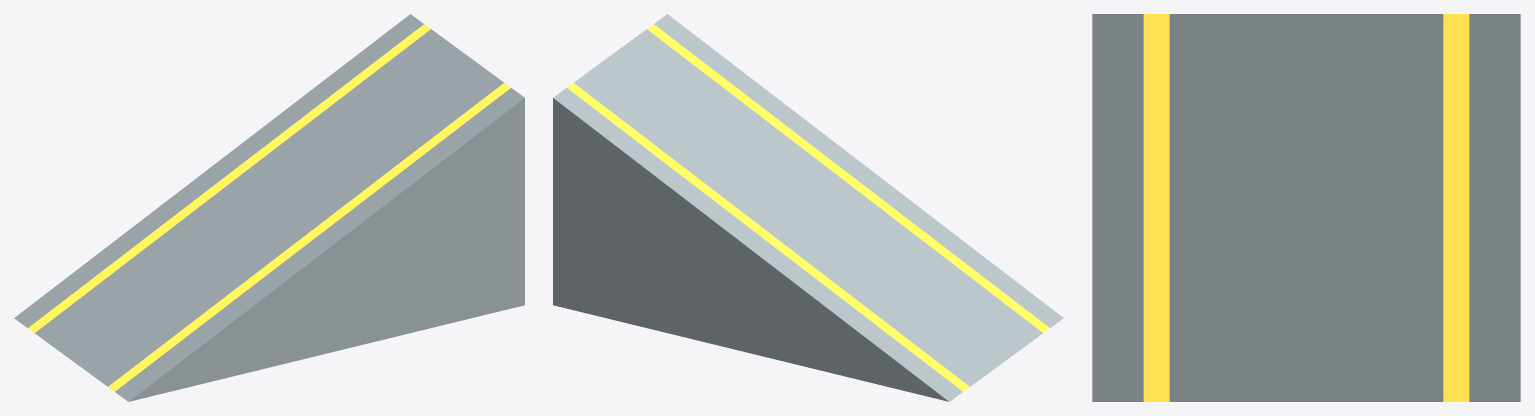
Rendered from SM_Slab22Degree_v0.fbx.
3 renders of one model, left to right at view 1: azimuth 30°, elevation 25°; view 2: azimuth 150°, elevation 25°; view 3: azimuth 270°, elevation 25°, orthographic. The views are drawn at different scales.
Visible parts, largest first — view 1: SM_Slab22Degree_v0; view 2: SM_Slab22Degree_v0; view 3: SM_Slab22Degree_v0.
Part boxes in pixels (x1,y1,x2,y2): SM_Slab22Degree_v0: (14,14,524,401); SM_Slab22Degree_v0: (553,14,1063,401); SM_Slab22Degree_v0: (1092,14,1520,401).
Bounding box in the file's own units: 2 × 1 × 1.
